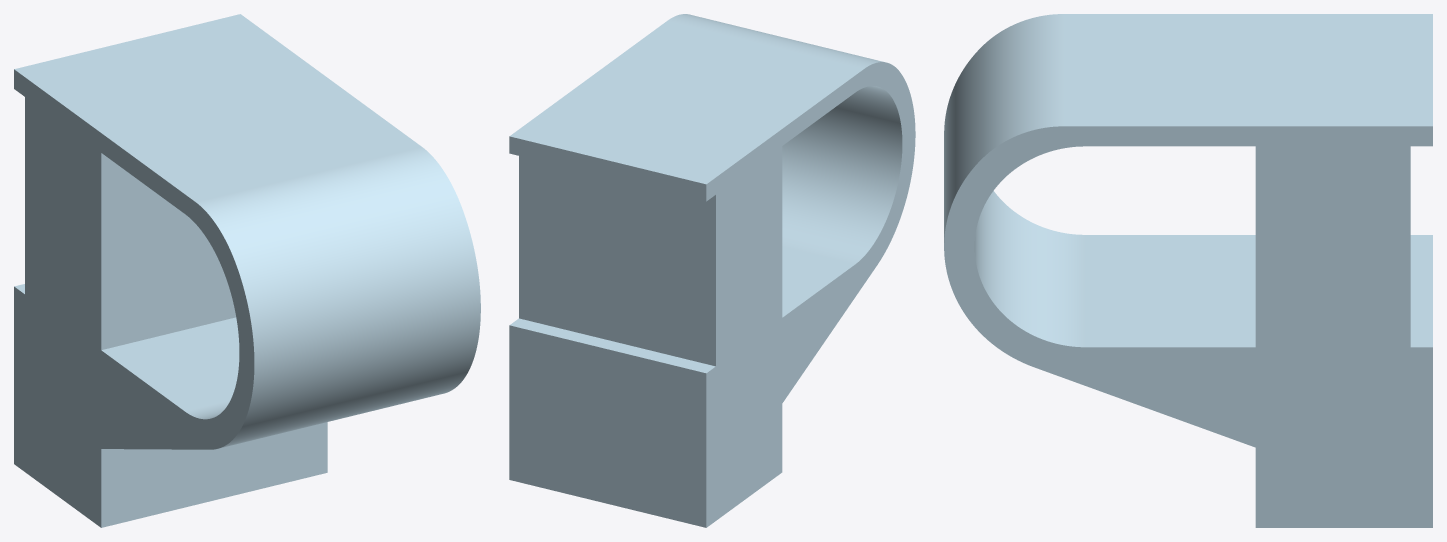
File: SB Kasse.gltf
3 renders of one model, left to right at view 1: azimuth 30°, elevation 25°; view 2: azimuth 150°, elevation 25°; view 3: azimuth 270°, elevation 25°, orthographic. The views are drawn at different scales.
Visible parts, largest first — view 1: Part 1; view 2: Part 1; view 3: Part 1.
Part boxes in pixels (box(x1,y1,x2,y2)): Part 1: box(14, 14, 480, 527); Part 1: box(509, 14, 915, 527); Part 1: box(944, 14, 1432, 527).
Bounding box in the file's own units: 0.06 × 0.1 × 0.1103.
